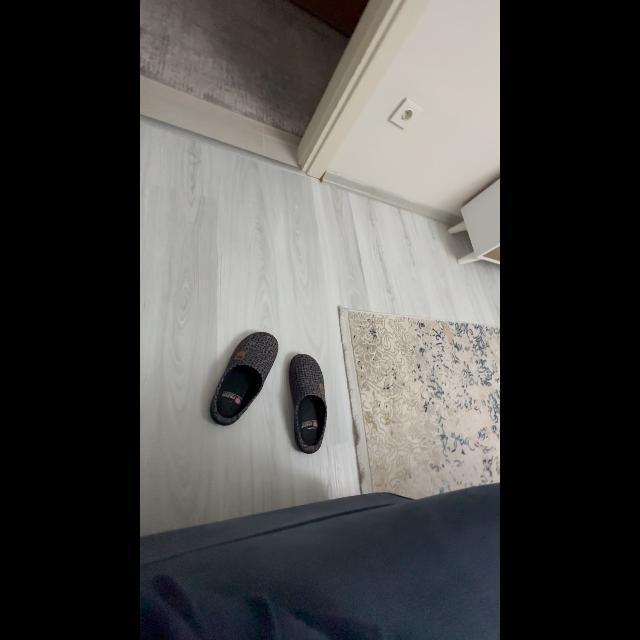slipper: (210, 328, 282, 437), (280, 349, 330, 459)
